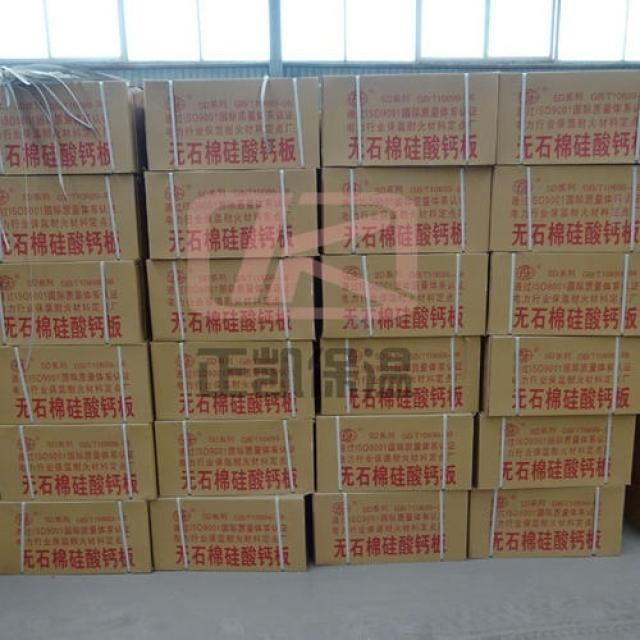box: (322, 71, 501, 165), (146, 78, 320, 170), (144, 169, 320, 258), (320, 166, 495, 255), (147, 255, 318, 342), (318, 253, 490, 337), (496, 68, 639, 165), (0, 170, 149, 262), (0, 80, 146, 173), (491, 164, 639, 253), (314, 412, 478, 492), (318, 336, 484, 415), (489, 251, 639, 338), (154, 417, 315, 498), (479, 335, 639, 416), (0, 340, 152, 424), (148, 342, 316, 418), (0, 260, 150, 344), (475, 412, 639, 488), (1, 422, 158, 500), (149, 493, 310, 567), (311, 492, 470, 563), (0, 500, 154, 572), (466, 489, 625, 556)
